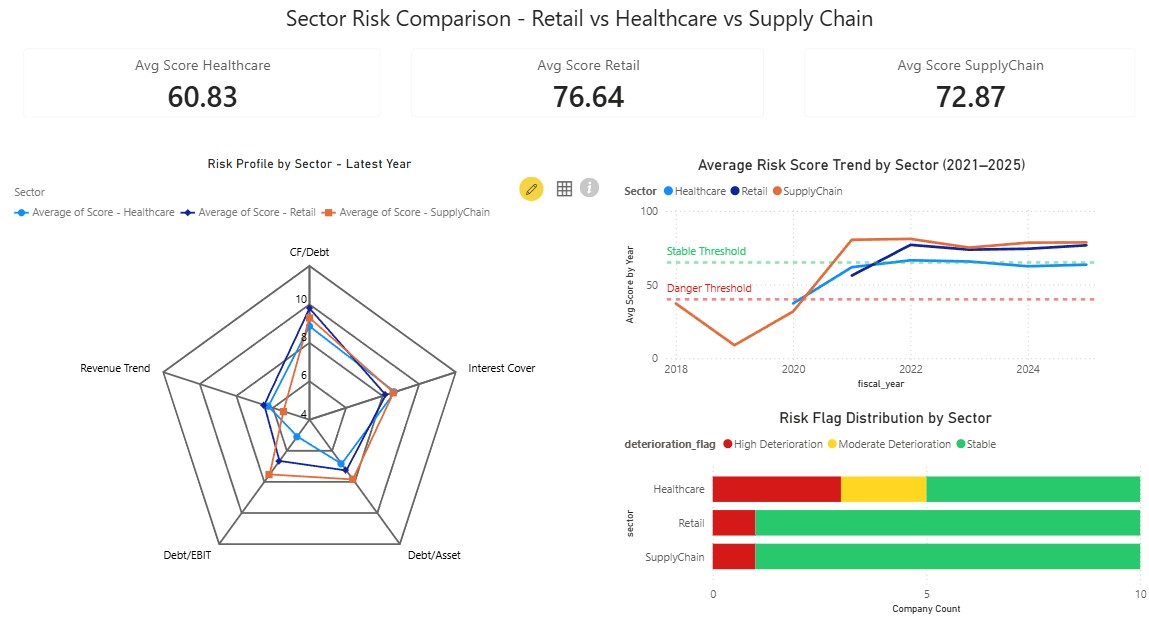

This screenshot's page, from the dashboard's own definition file:
{"tool":"powerbi","page":{"name":"Sector Comparison","canvas":[1280,720],"ordinal":3},"visuals":[{"type":"textbox","box":[10,0,1270,48.8],"z":0},{"type":"cardVisual","fields":{"Data":["_Measures.Avg Score Healthcare"]},"box":[10,38.8,431.2,111.2],"z":1000},{"type":"cardVisual","fields":{"Data":["_Measures.Avg Score Retail"]},"box":[441.2,38.8,426.2,111.2],"z":2000},{"type":"cardVisual","fields":{"Data":["_Measures.Avg Score SupplyChain"]},"box":[877.5,38.8,402.5,111.2],"z":3000},{"type":"radarChartE89D21F3E4E64221B79113B5015EA81B","title":"Risk Profile by Sector - Latest Year","fields":{"legend":["public company_master.sector"],"measure":["Avg(risk_scores_radar.Score)"],"category":["risk_scores_radar.Metric"]},"box":[0,175,690,513.8],"z":4000},{"type":"barChart","title":"Risk Flag Distribution by Sector","fields":{"Category":["public company_master.sector"],"Series":["public company_latest.deterioration_flag"],"Y":["_Measures.Company Count"]},"box":[690,456.2,590,232.5],"z":5000},{"type":"lineChart","title":"Average Risk Score Trend by Sector (2021–2025)","fields":{"Category":["public dim_year.fiscal_year"],"Series":["public company_master.sector"],"Y":["_Measures.Avg Score by Year"]},"box":[690,175,536.2,263.8],"z":6000}]}

Visuals, with their boxes in screenshot pixels (x1, y1, x2, y2), scaled from the page's 1280x720 canvas onto the 1149x643 screenshot:
textbox: <region>9, 0, 1148, 44</region>
cardVisual - _Measures.Avg Score Healthcare: <region>9, 35, 396, 134</region>
cardVisual - _Measures.Avg Score Retail: <region>396, 35, 779, 134</region>
cardVisual - _Measures.Avg Score SupplyChain: <region>788, 35, 1148, 134</region>
"Risk Profile by Sector - Latest Year" radarChartE89D21F3E4E64221B79113B5015EA81B: <region>0, 156, 619, 615</region>
"Risk Flag Distribution by Sector" barChart: <region>619, 407, 1148, 615</region>
"Average Risk Score Trend by Sector (2021–2025)" lineChart: <region>619, 156, 1101, 392</region>
